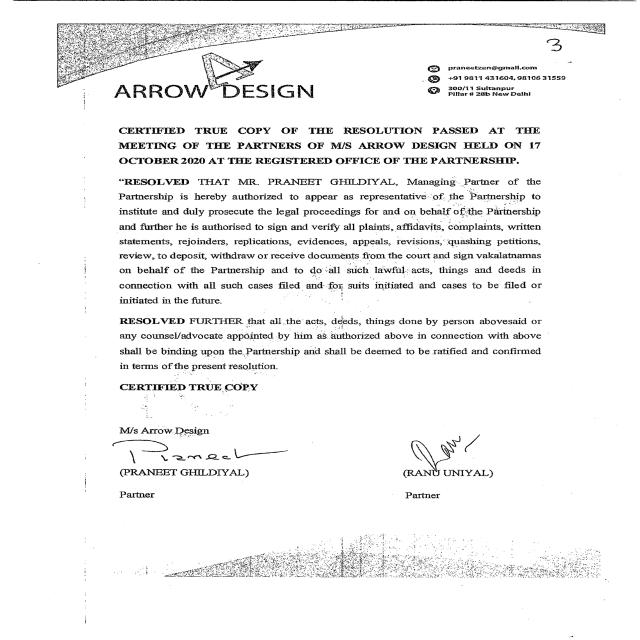page-number: (461, 34, 640, 60)
